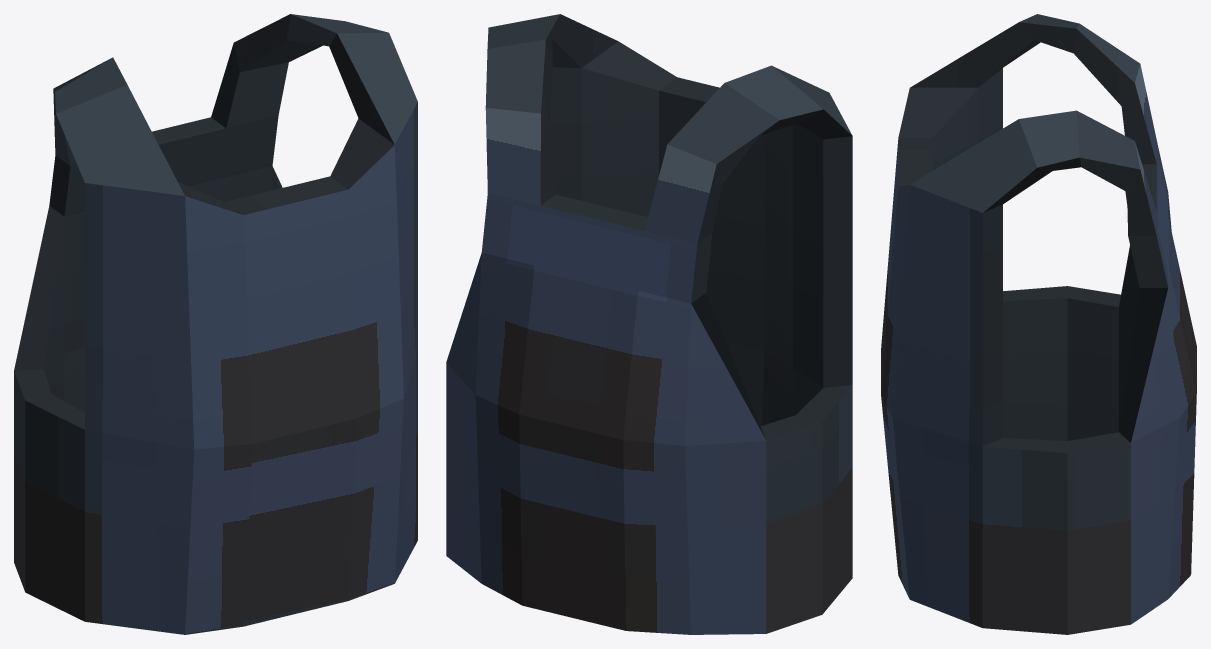
The model's file is ArmorPickup.gltf.
3 renders of one model, left to right at view 1: azimuth 30°, elevation 25°; view 2: azimuth 150°, elevation 25°; view 3: azimuth 270°, elevation 25°, orthographic. The views are drawn at different scales.
Visible parts, largest first — view 1: Armor; view 2: Armor; view 3: Armor.
Boxes of the visible parts, <box> form: Armor: <box>14,14,417,634</box>; Armor: <box>446,14,852,634</box>; Armor: <box>881,14,1196,634</box>.
Size of the model in its own units: 0.4321 by 0.5801 by 0.3446.
Materials: 1 (1 with a texture image).
